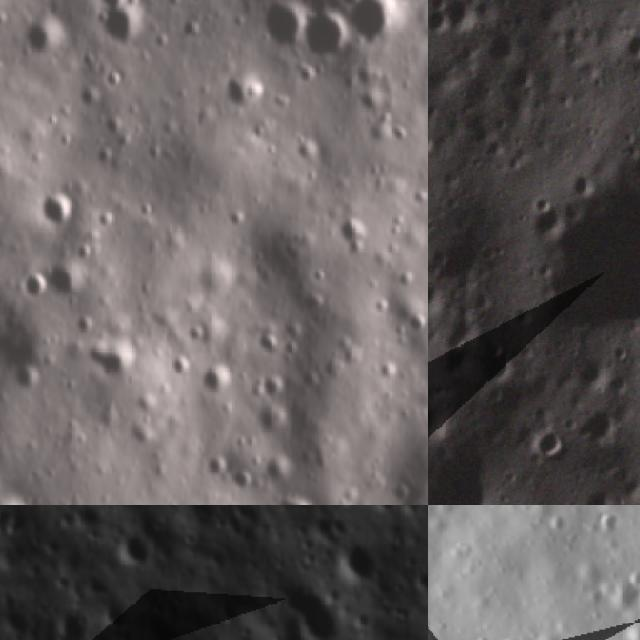crater: (532, 170, 640, 356), (428, 429, 509, 505), (266, 574, 339, 640), (431, 220, 489, 290), (94, 0, 165, 57), (79, 336, 153, 384), (303, 1, 355, 67), (571, 398, 631, 452), (343, 0, 409, 49), (328, 530, 381, 588), (20, 10, 74, 64), (476, 333, 524, 391), (36, 183, 88, 231), (259, 0, 306, 51), (524, 199, 572, 248), (572, 348, 616, 398), (359, 110, 408, 152), (197, 361, 244, 404), (112, 534, 155, 580), (527, 422, 572, 465), (504, 52, 545, 98), (223, 68, 268, 108), (6, 359, 52, 394), (541, 266, 579, 308), (444, 0, 486, 38), (428, 394, 456, 449), (485, 26, 523, 66), (16, 267, 53, 307), (564, 164, 602, 202), (292, 135, 331, 170), (269, 482, 324, 505), (428, 0, 457, 40), (102, 112, 138, 144), (605, 334, 637, 367), (622, 138, 640, 192), (579, 482, 619, 505), (428, 270, 447, 318), (469, 287, 500, 316), (76, 84, 104, 116), (609, 368, 640, 396), (621, 28, 640, 65), (428, 126, 440, 160)
